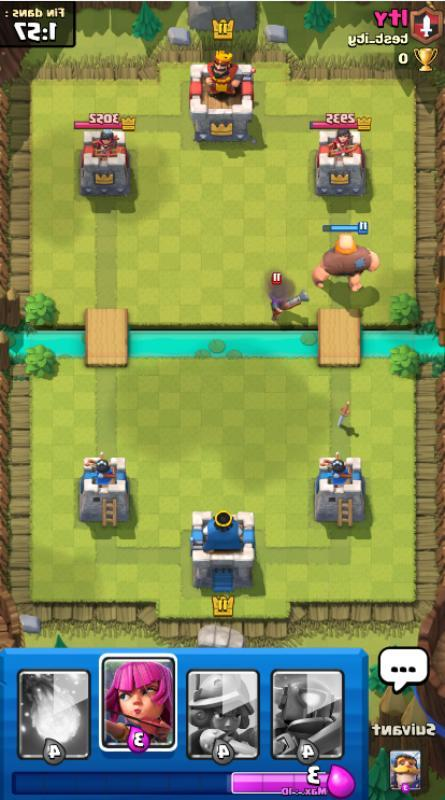geant: (312, 220, 380, 292)
mousquetaire: (268, 272, 310, 321)
